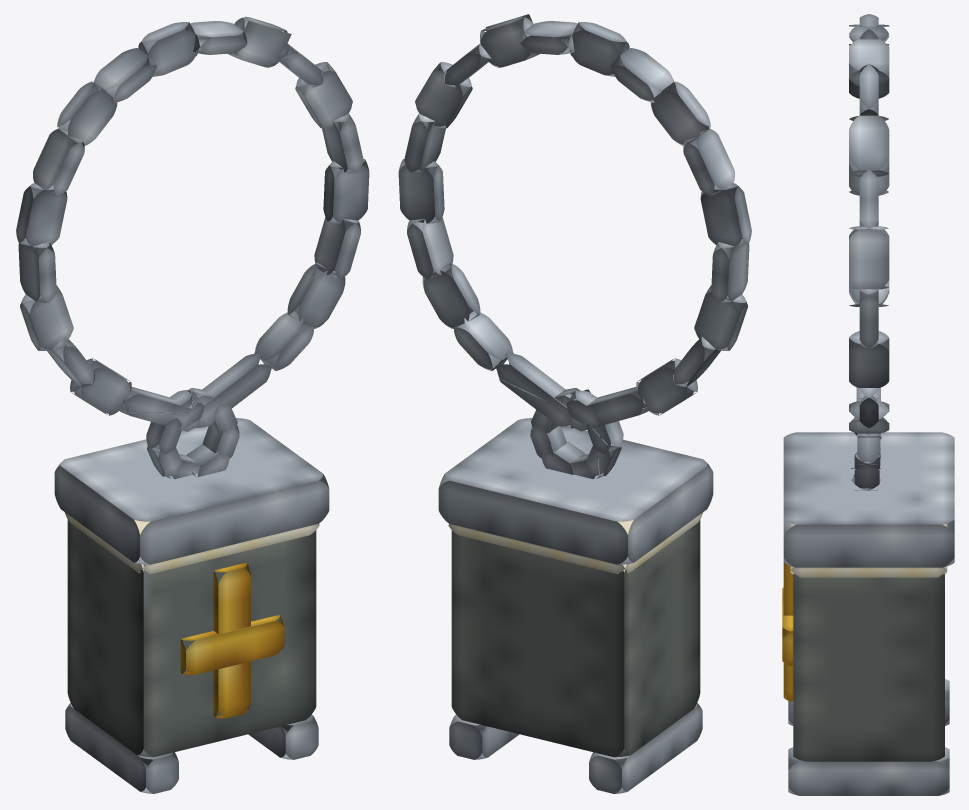
Rendered from gilded_pyx.obj.
3 renders of one model, left to right at view 1: azimuth 30°, elevation 25°; view 2: azimuth 150°, elevation 25°; view 3: azimuth 270°, elevation 25°, orthographic.
Parts seen in each view (by area): view 1: lit, fire; view 2: lit, fire; view 3: lit, fire.
Boxes of the visible parts, x1,y1,x2,y2 form: lit: [16, 16, 369, 793]; fire: [65, 512, 319, 573]; lit: [398, 14, 751, 793]; fire: [448, 512, 702, 573]; lit: [782, 14, 954, 795]; fire: [790, 523, 947, 577].
Bounding box in the file's own units: 0.526 × 1.05 × 0.2266.
